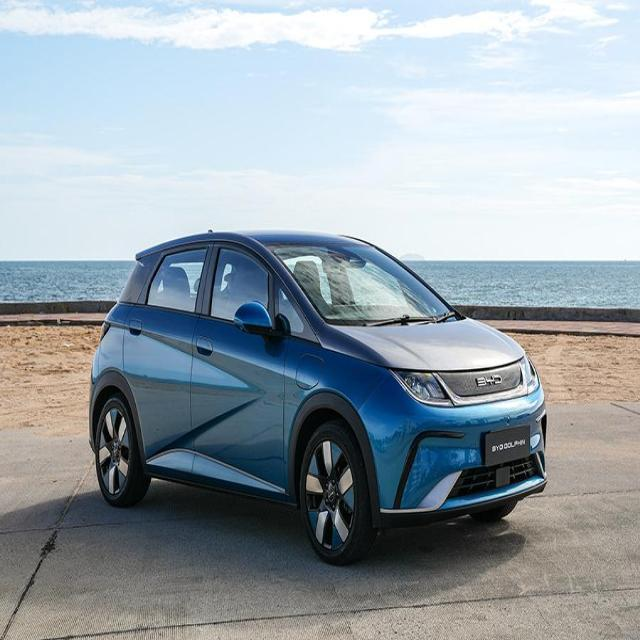Hatchback: (90, 230, 546, 564)
